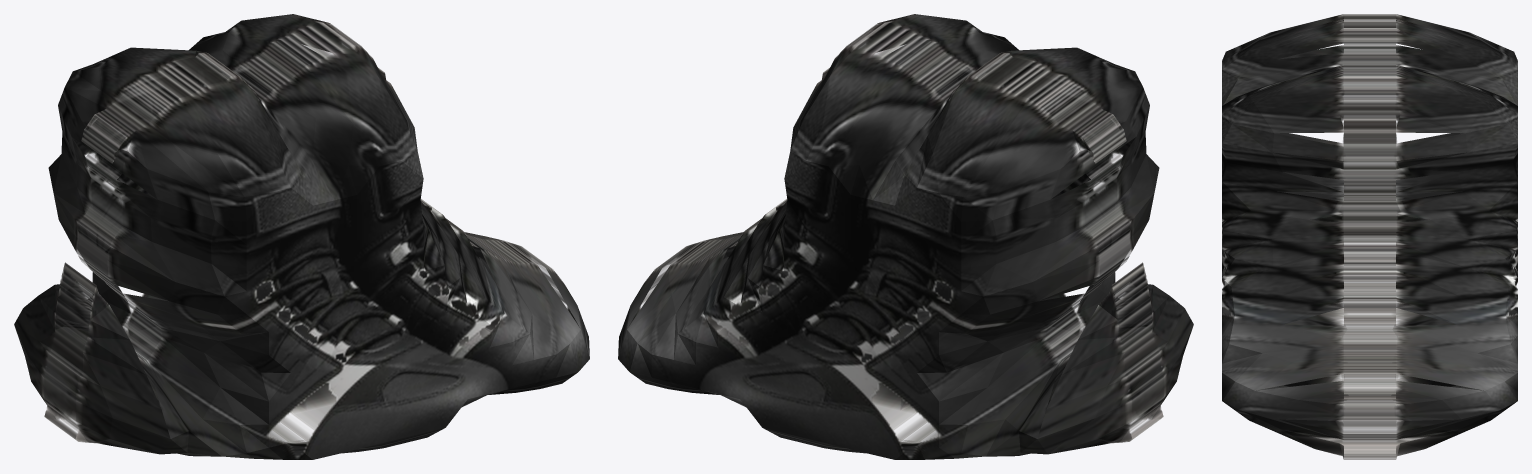
The model's file is randg-apex-touring-boot-121.glb.
3 views of the same model, side by side, from view 1: azimuth 30°, elevation 25°; view 2: azimuth 150°, elevation 25°; view 3: azimuth 270°, elevation 25° (orthographic). The views are drawn at different scales.
Visible parts, largest first — view 1: world; view 2: world; view 3: world.
Boxes of the visible parts, bbox=[...] form: world: bbox=[14, 14, 589, 459]; world: bbox=[618, 14, 1193, 459]; world: bbox=[1222, 14, 1517, 459].
Bounding box in the file's own units: 1 × 0.7485 × 0.62.
1 material, 1 textured.
